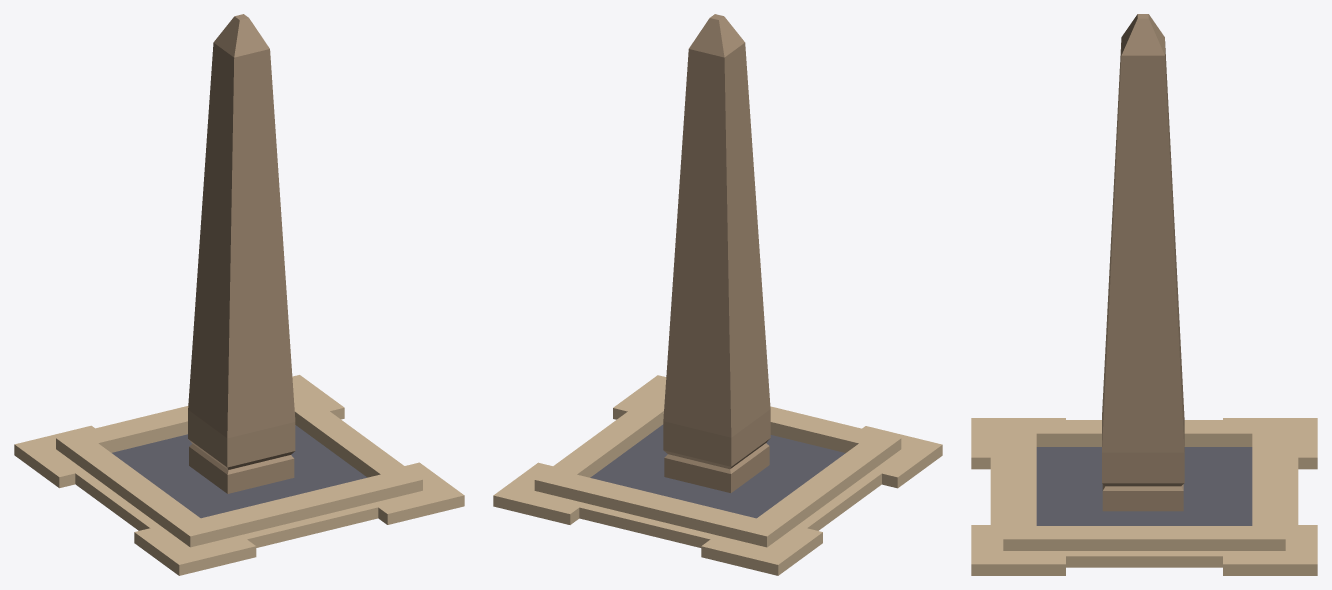
Rendered from egypt_obelisk.fbx.
The picture shows the model from 3 angles, left to right: view 1: azimuth 30°, elevation 25°; view 2: azimuth 150°, elevation 25°; view 3: azimuth 270°, elevation 25°; orthographic projection. The views are drawn at different scales.
Parts seen in each view (by area): view 1: obelisk, plaza, water; view 2: obelisk, plaza, water; view 3: obelisk, plaza, water.
Boxes of the visible parts, box(x1,y1,x2,y2) form: obelisk: box(188, 14, 295, 493); plaza: box(14, 375, 464, 575); water: box(112, 425, 366, 518); obelisk: box(663, 14, 770, 492); plaza: box(493, 375, 942, 575); water: box(590, 424, 845, 518); obelisk: box(1102, 14, 1184, 511); plaza: box(971, 418, 1317, 575); water: box(1036, 447, 1252, 525).
Bounding box in the file's own units: 13.07 × 21.21 × 13.07.
